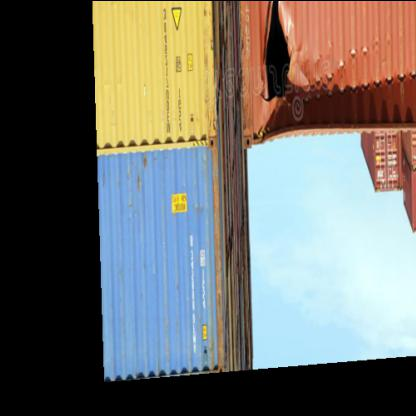Damage: (255, 4, 331, 146)
